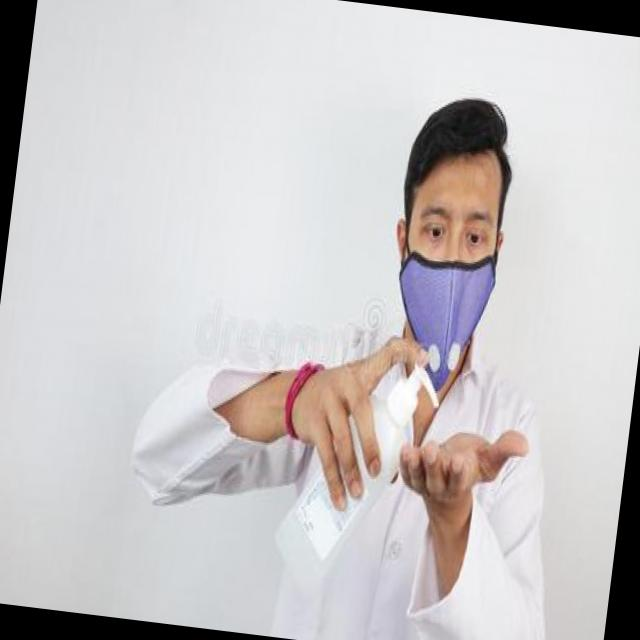sanitizer: (354, 344, 436, 484)
